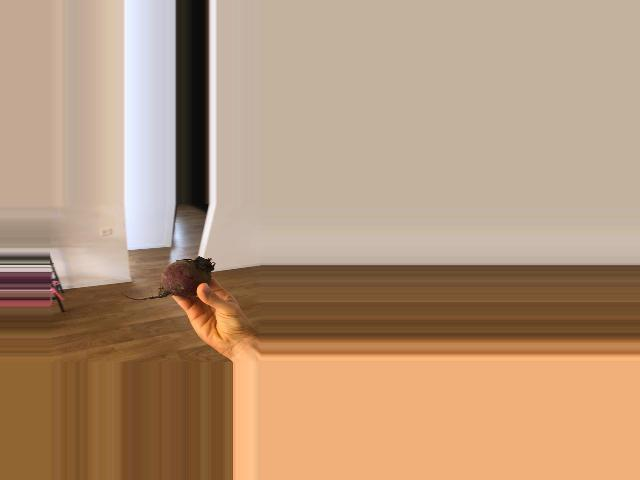beet: (121, 257, 213, 300)
